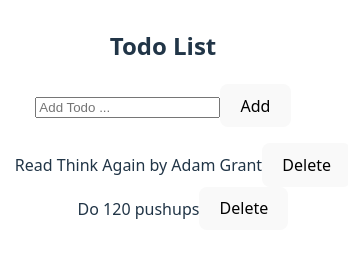
Test: should add a new todo
Type "Make money" into the field with placeholder "Add Todo ..." at (128, 107), box [35,97,220,118]
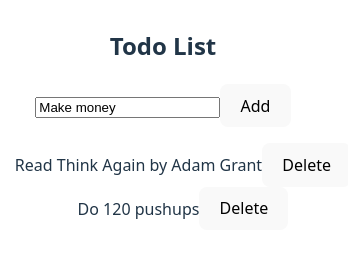
Click the button "Add" at (256, 106), box [220,84,291,127]
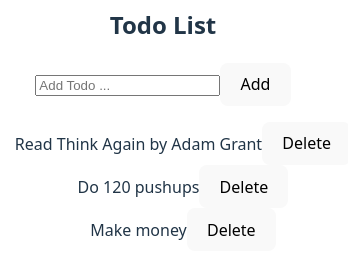
expect the text "Make money" is shown: met, box [90,219,187,241]
